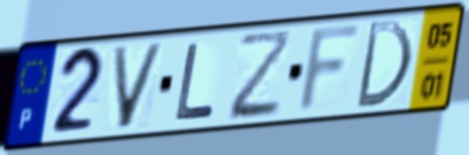2: (45, 43, 110, 143)
D: (352, 18, 415, 111)
F: (293, 20, 367, 118)
L: (173, 40, 219, 124)
V: (109, 41, 167, 133)
Z: (228, 27, 295, 125)
